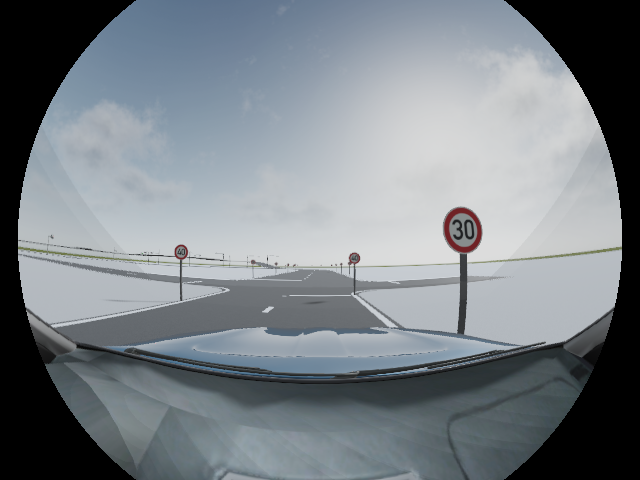Speed Limit 30: (443, 207, 482, 254)
